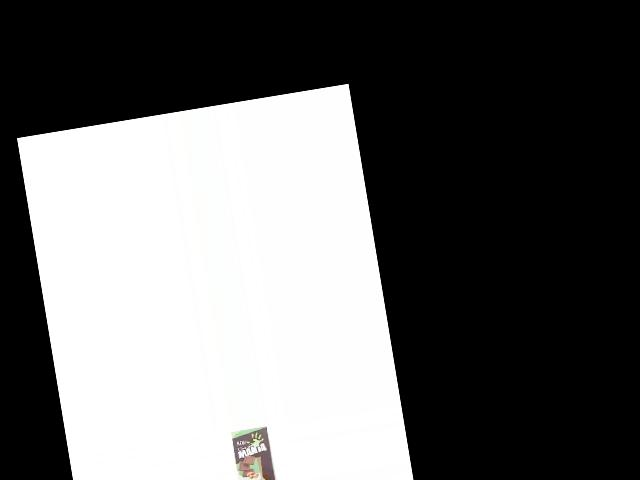chocolate: (228, 424, 281, 480)
